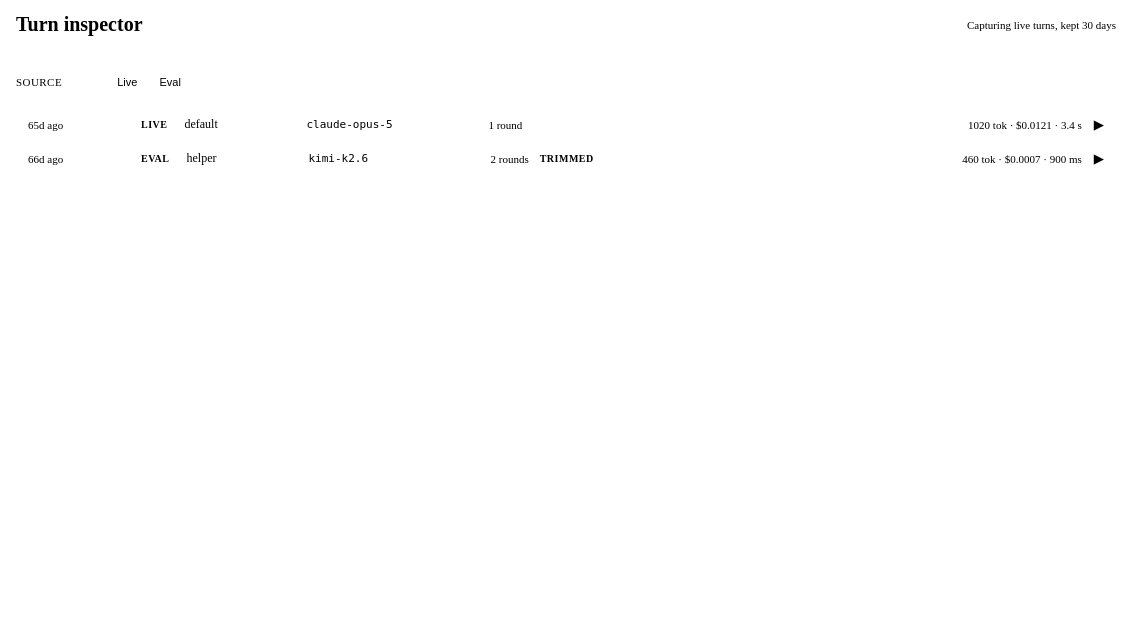
Scenario: Turn inspector — detail › reports what truncation removed
Check: the element with test id "trace-rows" is shown, box [16,108,1116,176]
Click the button with test id "trace-row" that starts with "66d ago": (566,159) [16,142,1116,176]
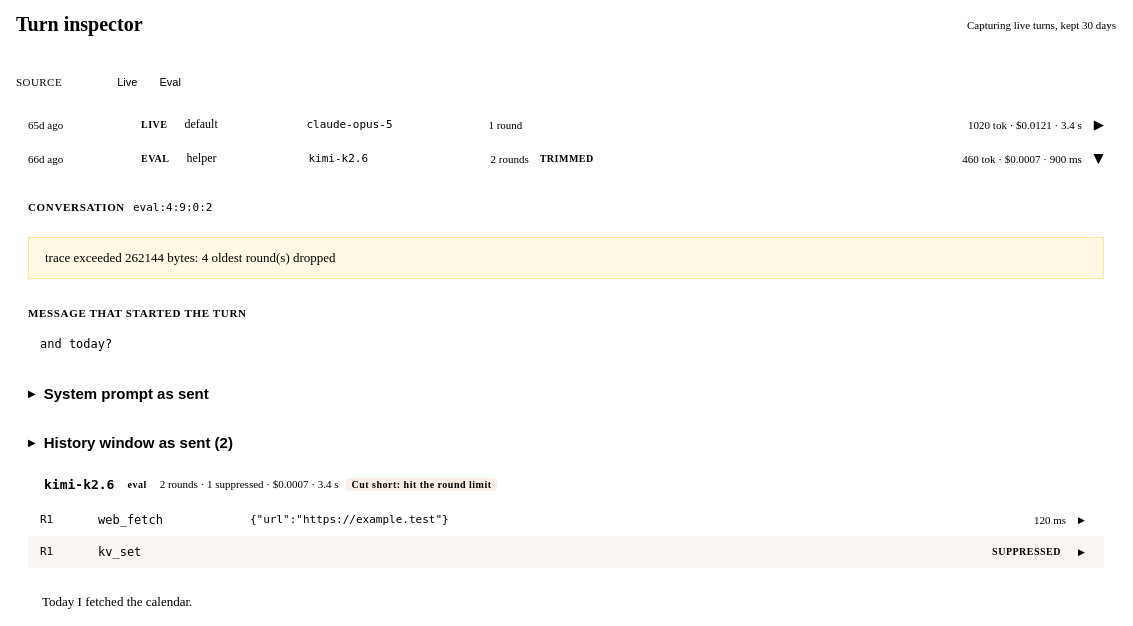
Check: the text with test id "trace-truncation" shows "4 oldest round(s) dropped", box [45,250,336,265]
